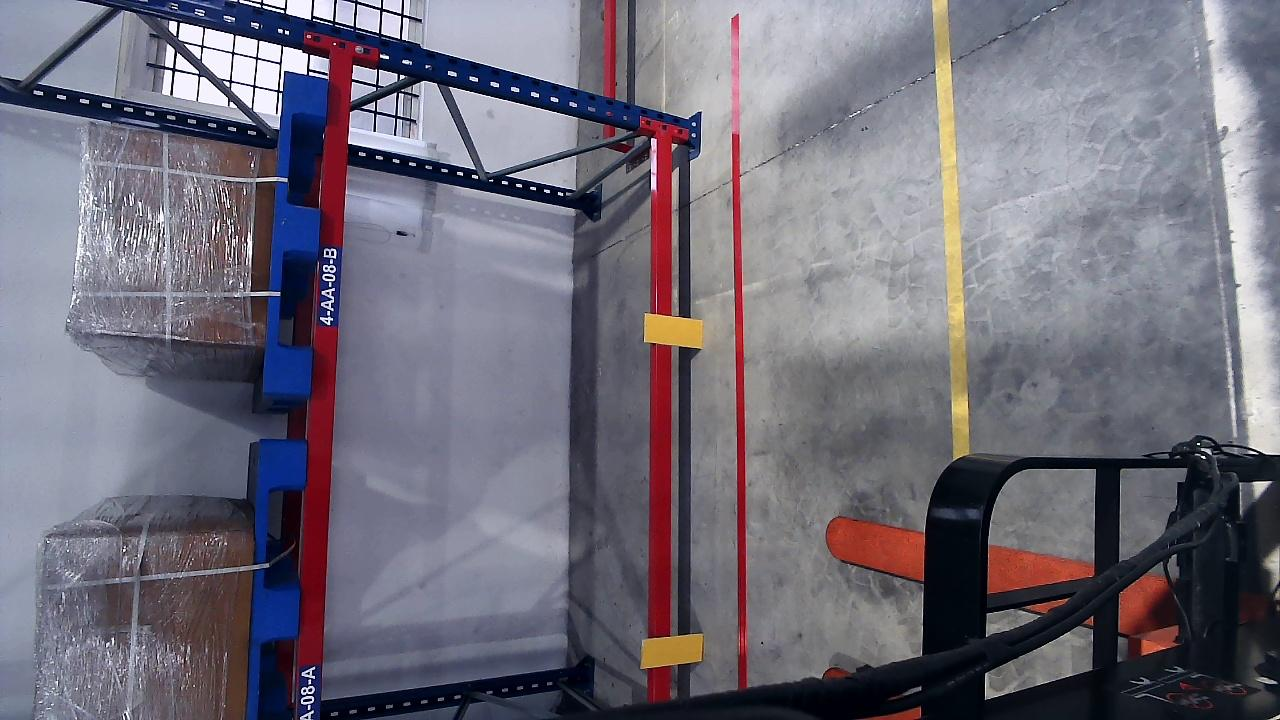h_rack: (287, 57, 353, 719), (648, 136, 675, 690)
orange_strip: (640, 634, 704, 668), (644, 313, 702, 348)
red_line: (728, 16, 750, 688)
small_pallet: (266, 71, 325, 396), (244, 440, 306, 720)
yellow_line: (931, 1, 972, 457)
